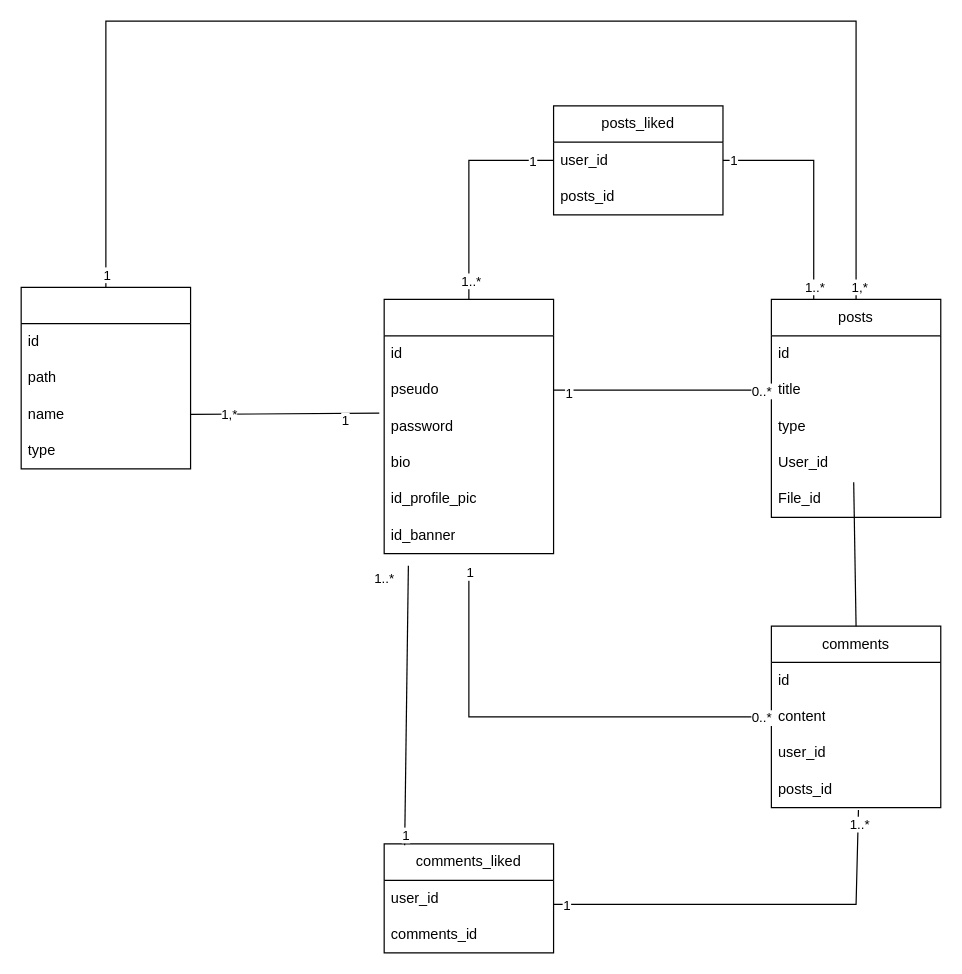
Some shapes in this 962 by 974 pixel diagram are drawn without their labels. The box of each missing label's shape, as (x1, y1, x2, y2) in pixels:
files: (20, 286, 191, 469)
users: (383, 298, 554, 554)
